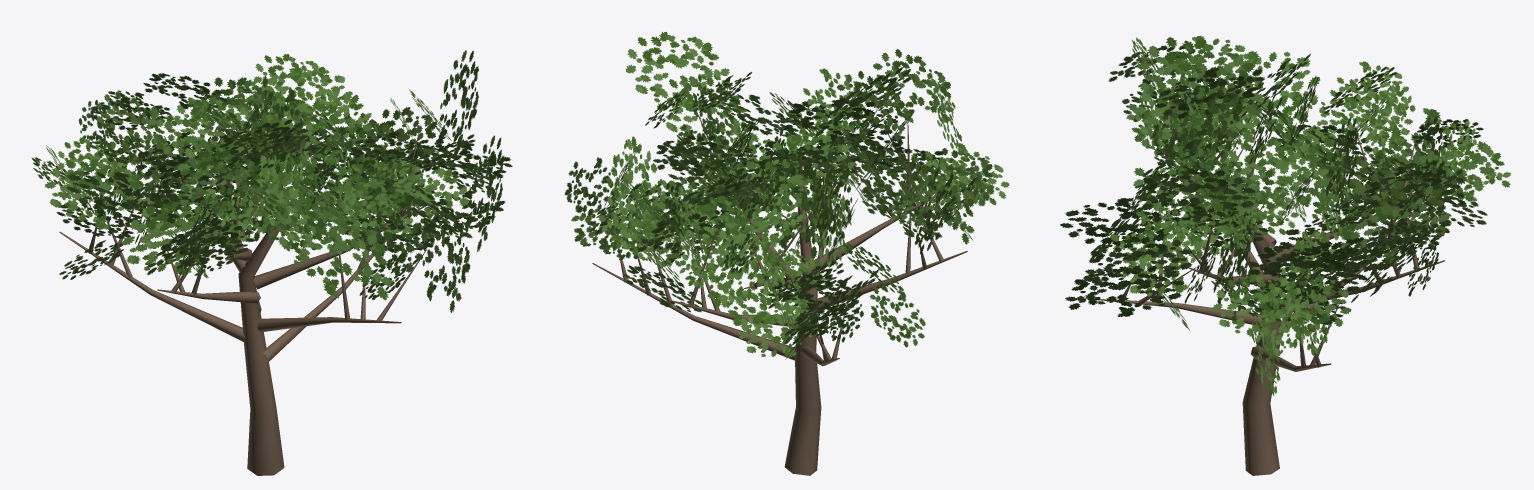
Rendered from oak-31-balanced.glb.
The picture shows the model from 3 angles, left to right: view 1: azimuth 30°, elevation 25°; view 2: azimuth 150°, elevation 25°; view 3: azimuth 270°, elevation 25°; orthographic projection. The views are drawn at different scales.
Visible parts, largest first — view 1: LeafCards, Wood; view 2: LeafCards, Wood; view 3: LeafCards, Wood.
Part boxes in pixels (x1,y1,x2,y2): LeafCards: (31, 50, 512, 312); Wood: (59, 128, 426, 475); LeafCards: (565, 32, 1009, 359); Wood: (592, 111, 967, 475); LeafCards: (1060, 35, 1510, 395); Wood: (1094, 93, 1444, 475).
Bounding box in the file's own units: 15.71 × 13.88 × 13.86.
2 materials, 1 textured.
